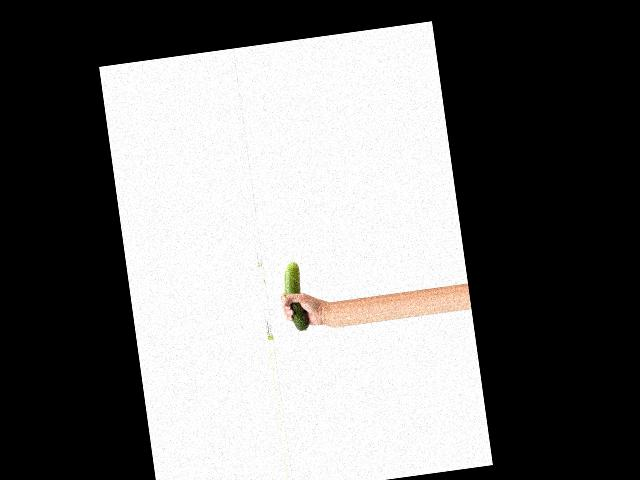cucumber: (280, 260, 309, 331)
